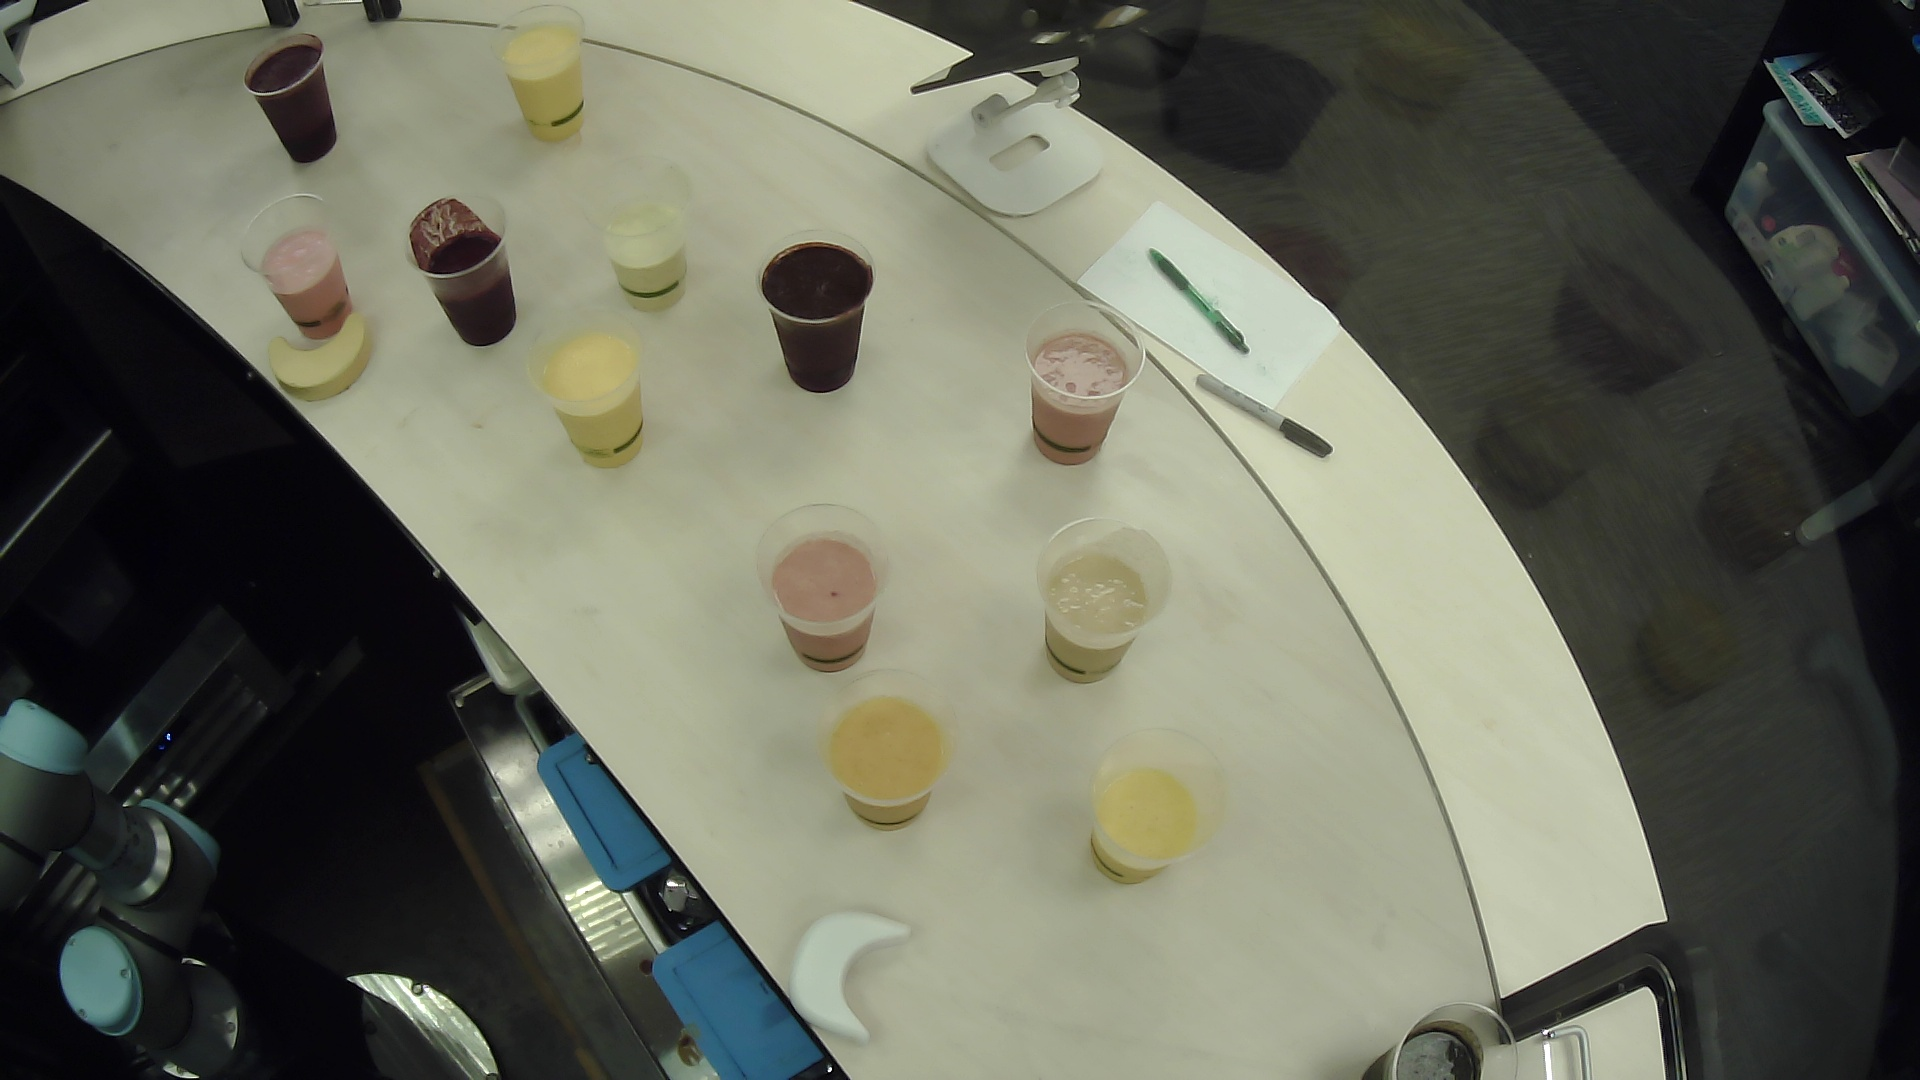Deliver: (777, 889, 931, 1055), (256, 295, 394, 417)
Full_cup: (1004, 498, 1189, 705), (1069, 721, 1233, 909), (502, 313, 670, 493), (822, 655, 975, 847), (754, 481, 895, 687), (1013, 287, 1153, 491), (742, 224, 884, 425), (574, 144, 713, 332), (491, 1, 625, 167), (233, 189, 369, 351), (407, 196, 534, 364), (1346, 976, 1532, 1080), (233, 21, 360, 174)
